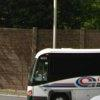Bus: (23, 43, 100, 100)
